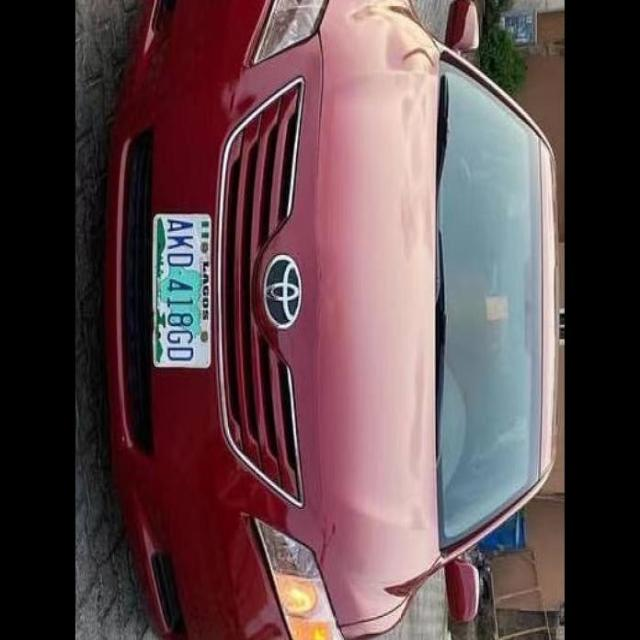Nigerian License Plate - vdataset benjamin-daria: (144, 207, 216, 372)
